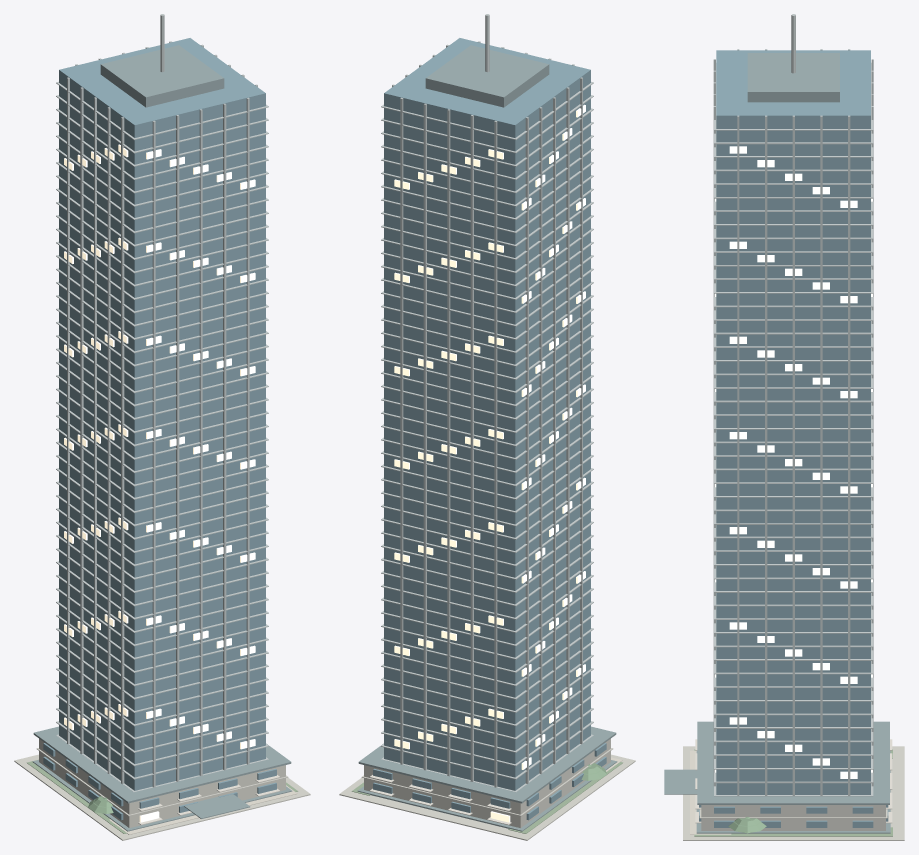
The model's file is remaster_skyscraper_4.glb.
3 views of the same model, side by side, from view 1: azimuth 30°, elevation 25°; view 2: azimuth 150°, elevation 25°; view 3: azimuth 270°, elevation 25° (orthographic). The views are drawn at different scales.
Visible parts, largest first — view 1: remaster_skyscraper_4 glass, remaster_skyscraper_4 metal, remaster_skyscraper_4 roof, remaster_skyscraper_4 warm, remaster_skyscraper_4 stone, remaster_skyscraper_4 cream; view 2: remaster_skyscraper_4 glass, remaster_skyscraper_4 metal, remaster_skyscraper_4 roof, remaster_skyscraper_4 warm, remaster_skyscraper_4 stone, remaster_skyscraper_4 white, remaster_skyscraper_4 green; view 3: remaster_skyscraper_4 glass, remaster_skyscraper_4 metal, remaster_skyscraper_4 roof, remaster_skyscraper_4 stone, remaster_skyscraper_4 warm, remaster_skyscraper_4 green, remaster_skyscraper_4 white.
Part boxes in pixels (x1,y1,x2,y2): remaster_skyscraper_4 glass: [43, 38, 276, 820]; remaster_skyscraper_4 metal: [56, 14, 268, 792]; remaster_skyscraper_4 roof: [32, 45, 292, 831]; remaster_skyscraper_4 warm: [64, 144, 255, 822]; remaster_skyscraper_4 stone: [14, 739, 310, 840]; remaster_skyscraper_4 cream: [109, 785, 297, 834]; remaster_skyscraper_4 glass: [373, 38, 606, 820]; remaster_skyscraper_4 metal: [381, 14, 593, 792]; remaster_skyscraper_4 roof: [357, 45, 617, 831]; remaster_skyscraper_4 warm: [394, 104, 585, 822]; remaster_skyscraper_4 stone: [339, 739, 635, 840]; remaster_skyscraper_4 white: [369, 775, 511, 825]; remaster_skyscraper_4 green: [351, 762, 622, 833]; remaster_skyscraper_4 glass: [699, 50, 888, 827]; remaster_skyscraper_4 metal: [713, 14, 873, 796]; remaster_skyscraper_4 roof: [664, 53, 890, 833]; remaster_skyscraper_4 stone: [683, 746, 904, 840]; remaster_skyscraper_4 warm: [714, 146, 872, 778]; remaster_skyscraper_4 green: [694, 749, 892, 836]; remaster_skyscraper_4 white: [695, 739, 892, 823].
Size of the model in its own units: 38.58 by 149 by 41.6.
